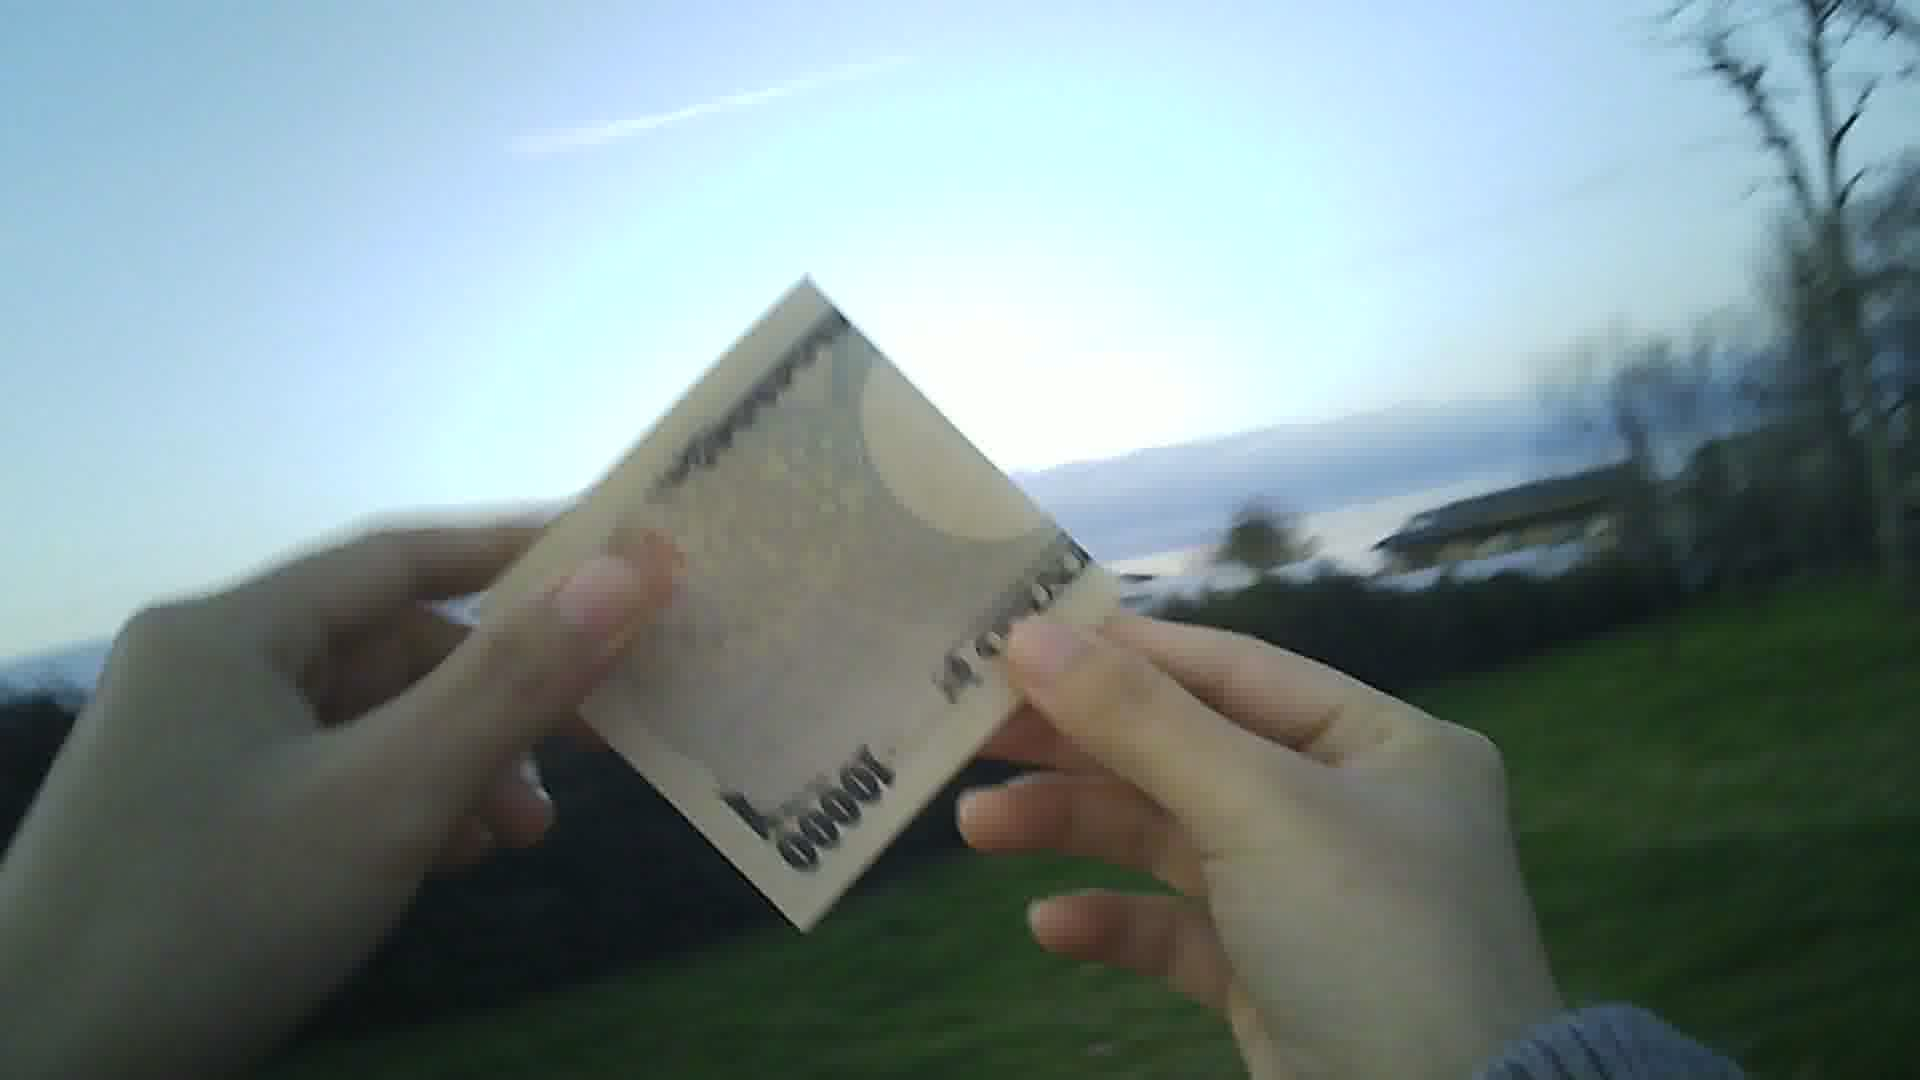10,000 Yen: (452, 274, 1141, 873)
